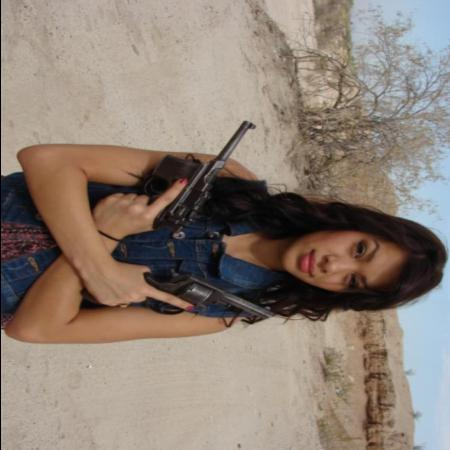Pistol: (136, 118, 256, 234), (79, 268, 275, 320)
